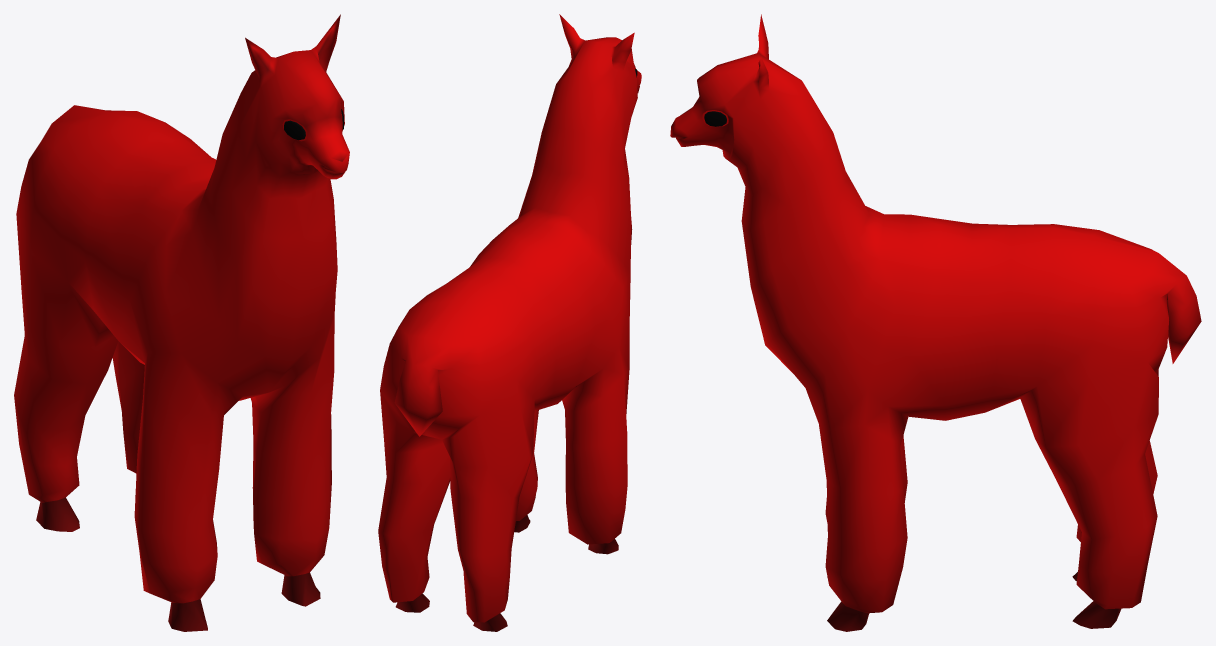
File: Animals_Alpaca.fbx
The picture shows the model from 3 angles, left to right: view 1: azimuth 30°, elevation 25°; view 2: azimuth 150°, elevation 25°; view 3: azimuth 270°, elevation 25°; orthographic projection. The views are drawn at different scales.
Parts seen in each view (by area): view 1: base; view 2: base; view 3: base.
Part boxes in pixels (box(x1,y1,x2,y2)): base: box(14, 14, 349, 631); base: box(378, 14, 641, 631); base: box(670, 14, 1201, 631).
Size of the model in its own units: 53.78 by 165 by 141.
